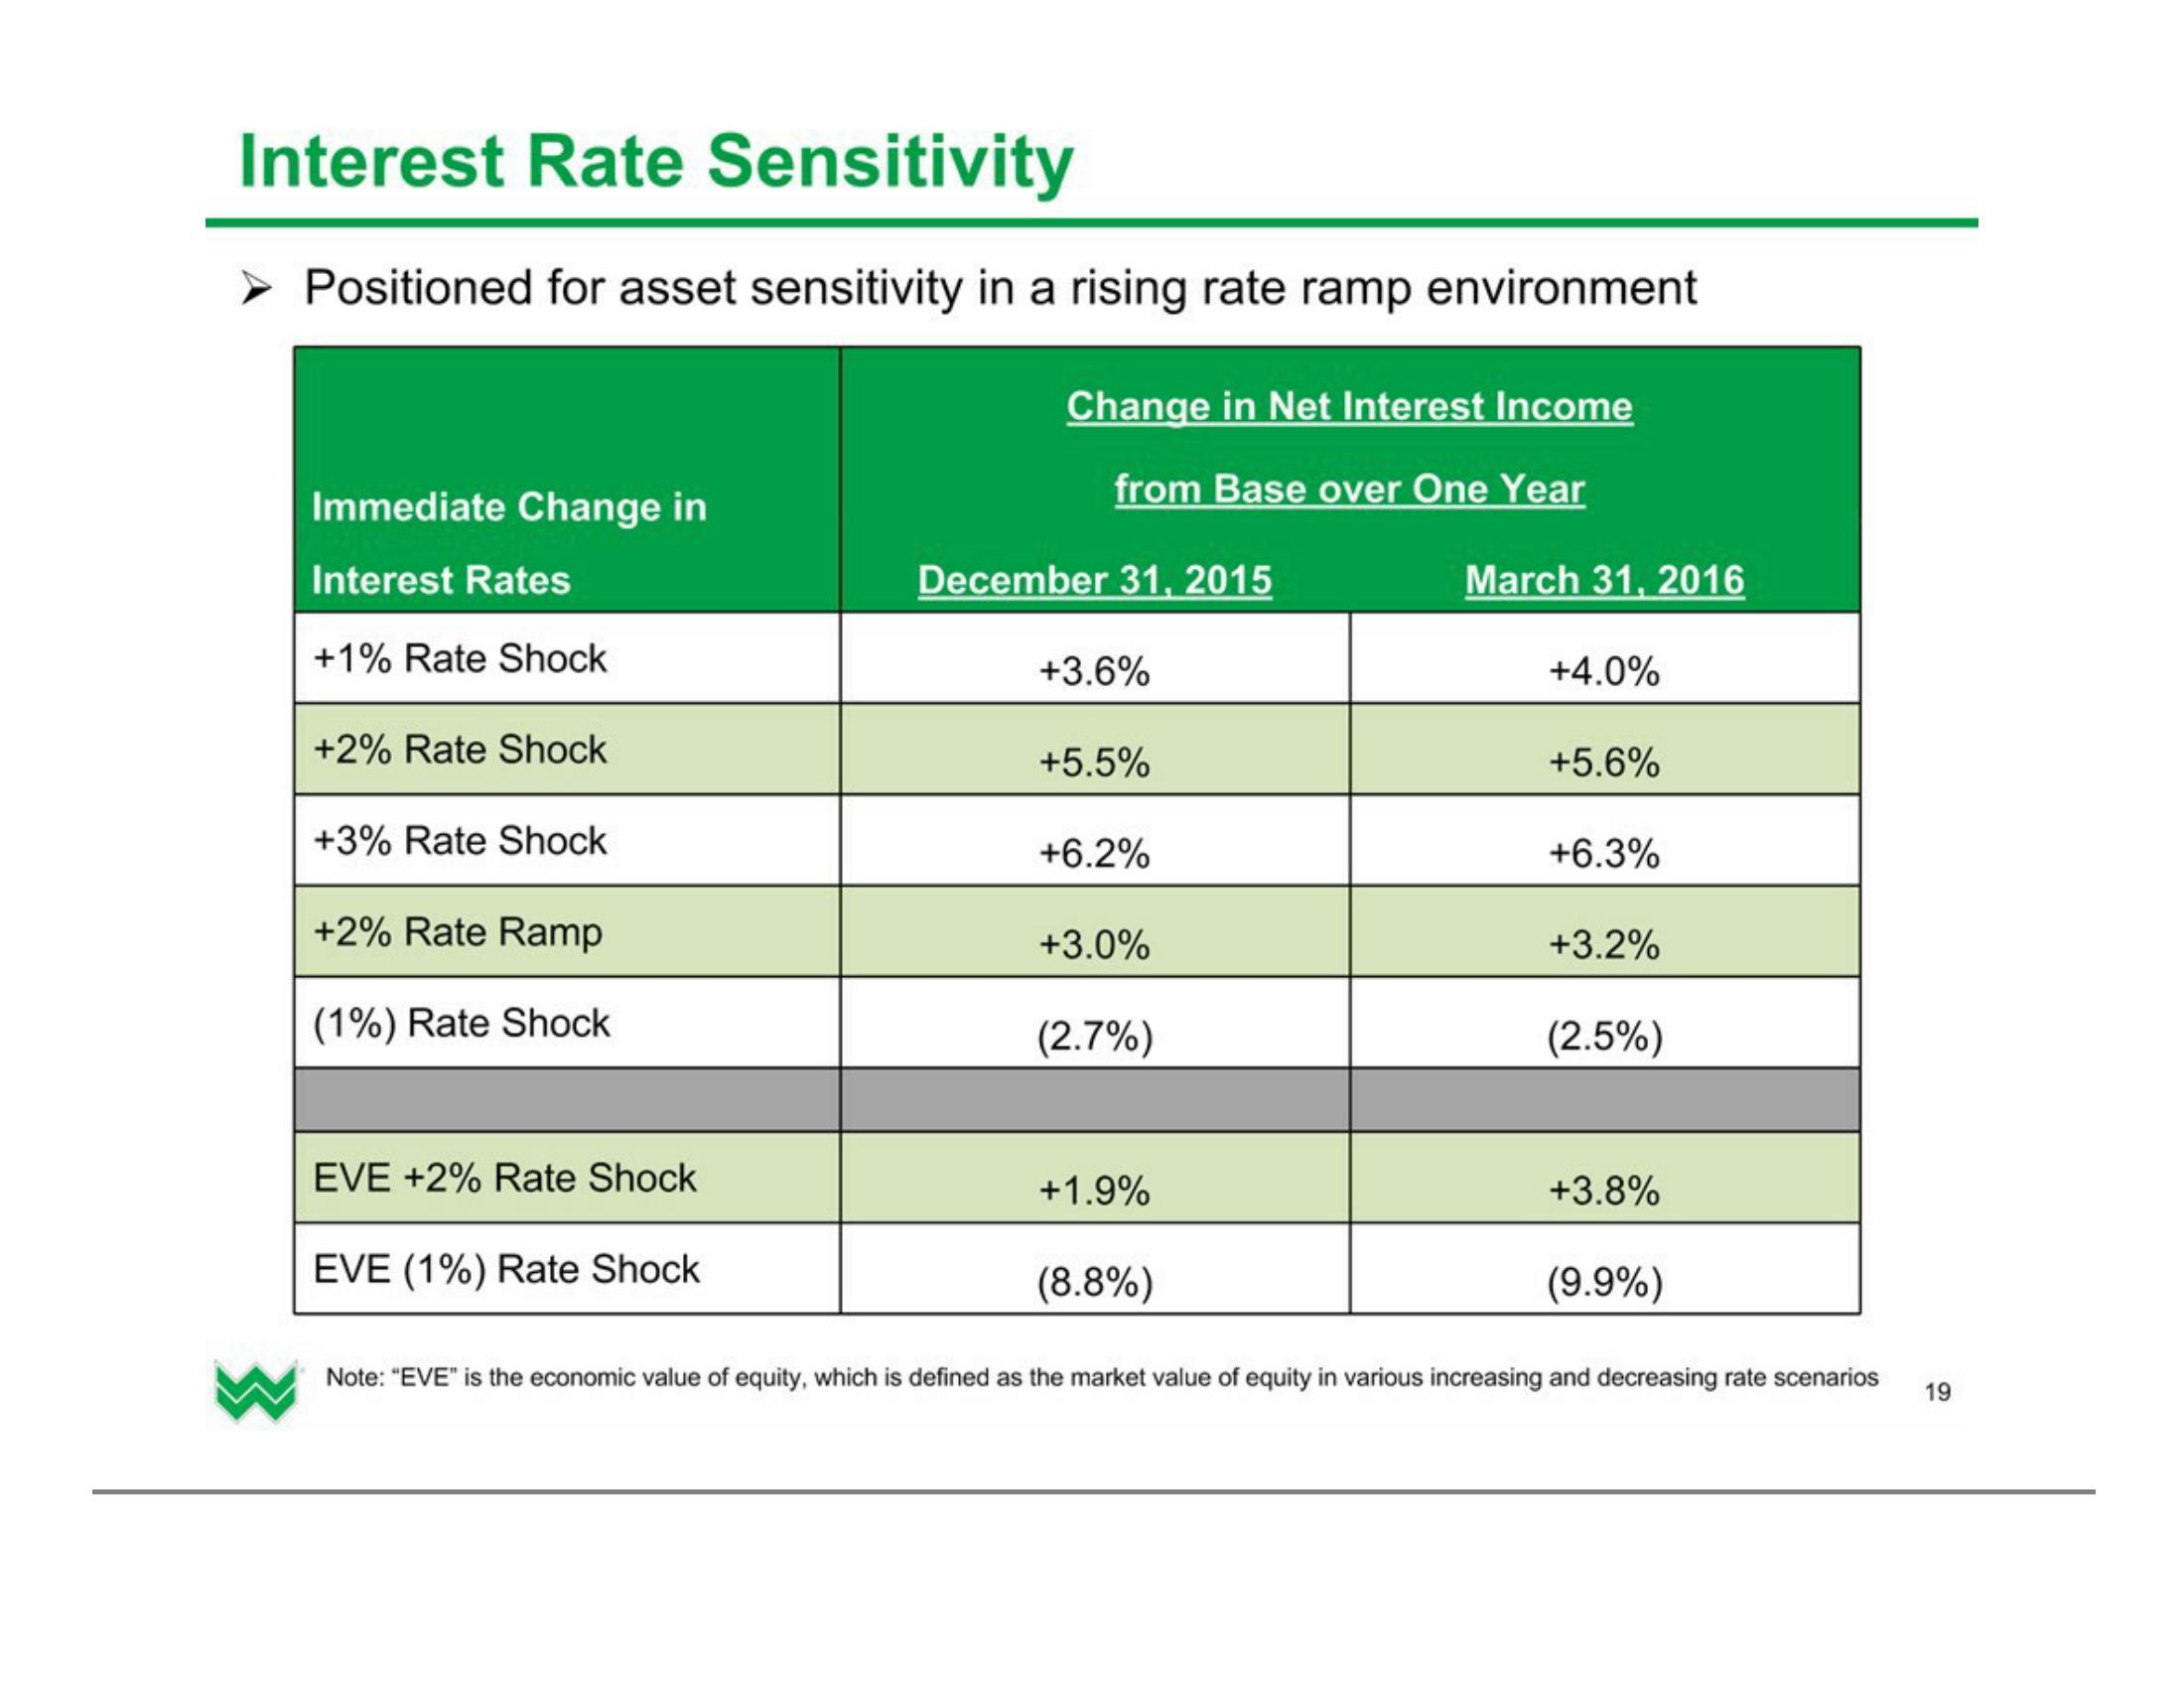table: (287, 339, 1870, 1325)
